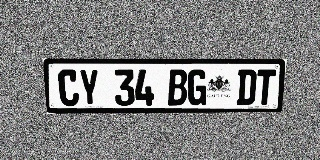3: (114, 69, 134, 106)
4: (135, 69, 154, 106)
B: (168, 69, 187, 105)
C: (57, 69, 79, 106)
D: (236, 69, 257, 105)
G: (187, 69, 207, 105)
T: (255, 69, 276, 105)
Y: (78, 69, 100, 106)
